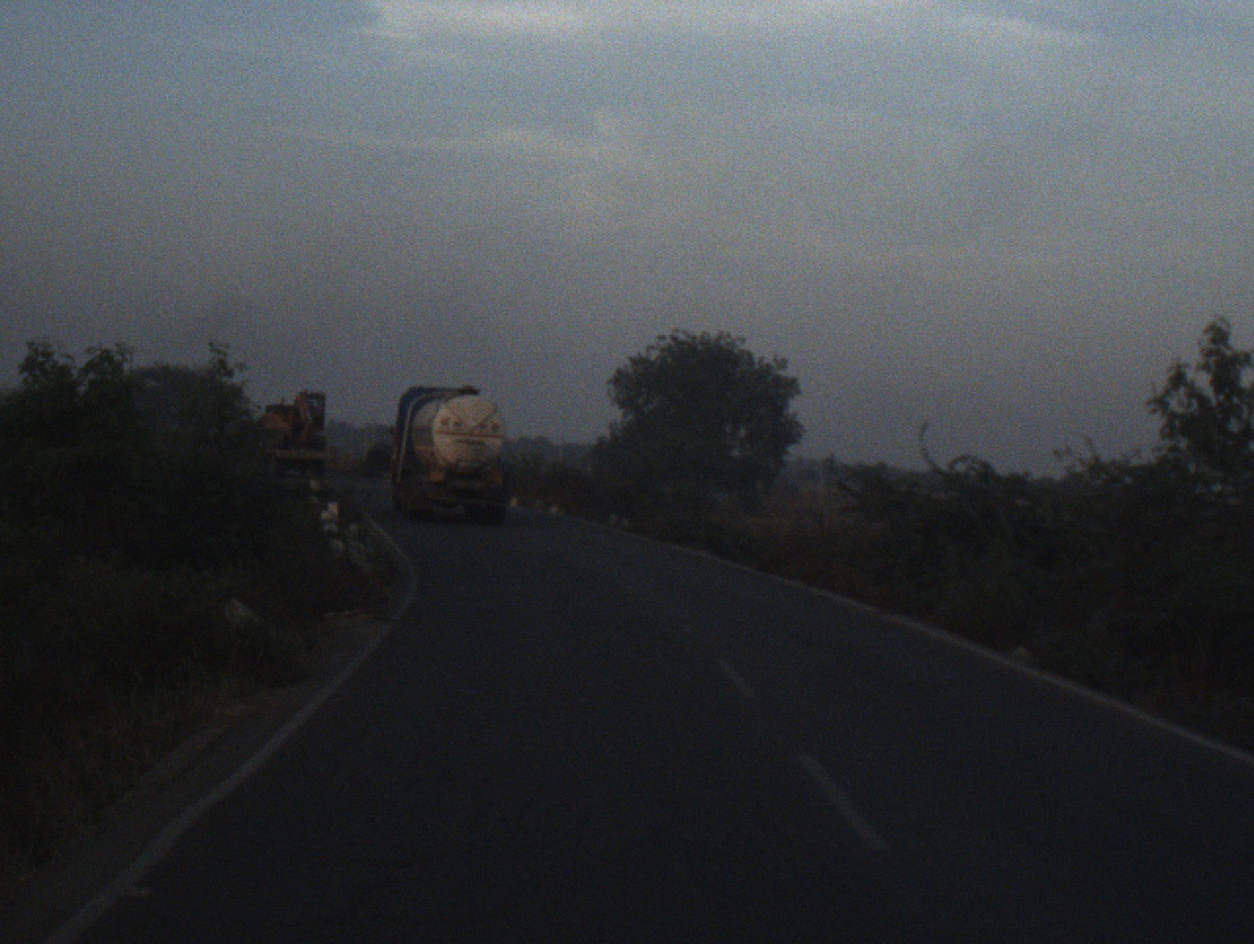truck: (386, 383, 515, 533)
vehicle fallback: (256, 388, 340, 481)
